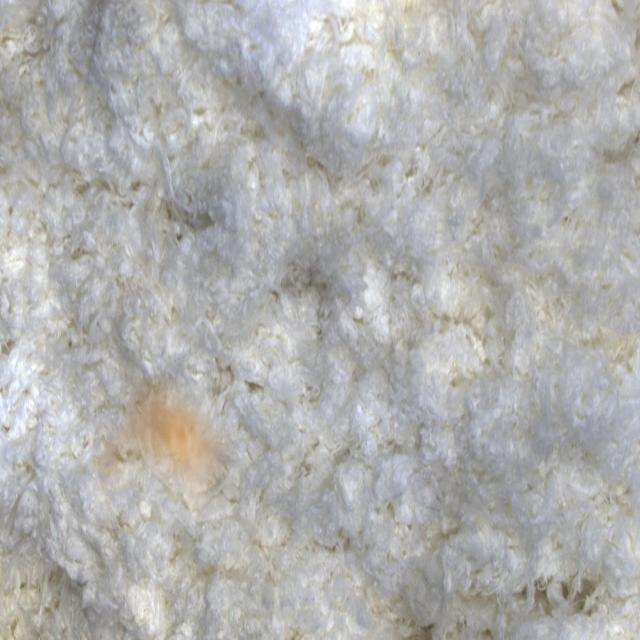dust: (93, 379, 240, 521)
